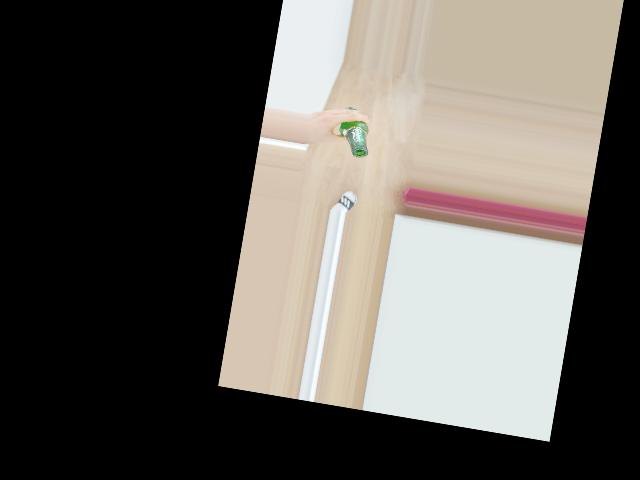beer: (334, 106, 375, 159)
